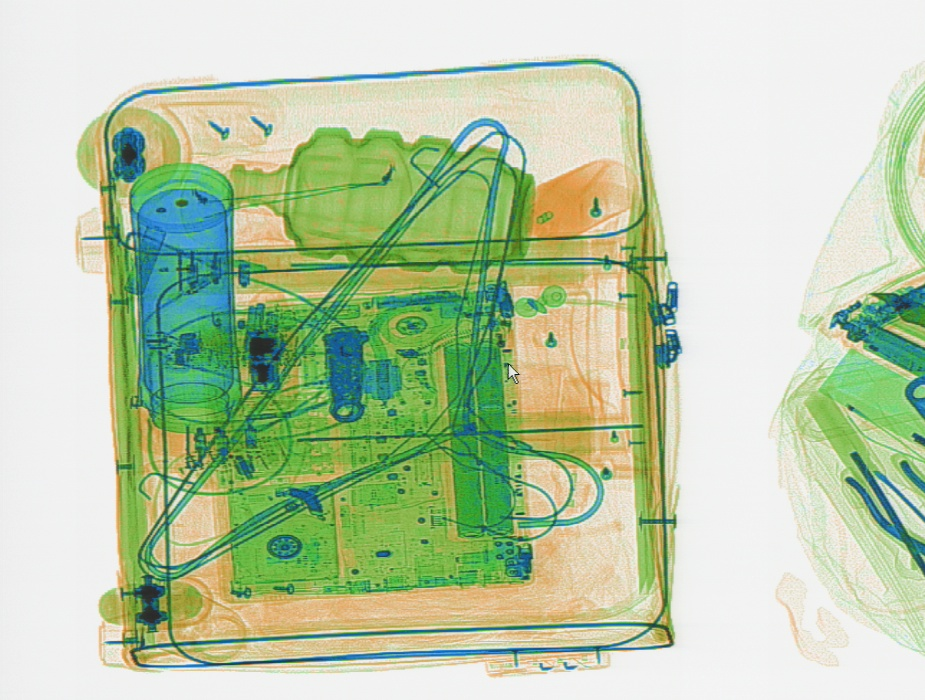knife: (320, 326, 370, 423)
